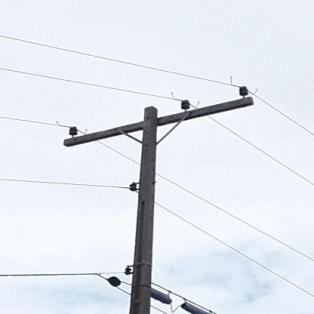Poste: (122, 100, 161, 314)
